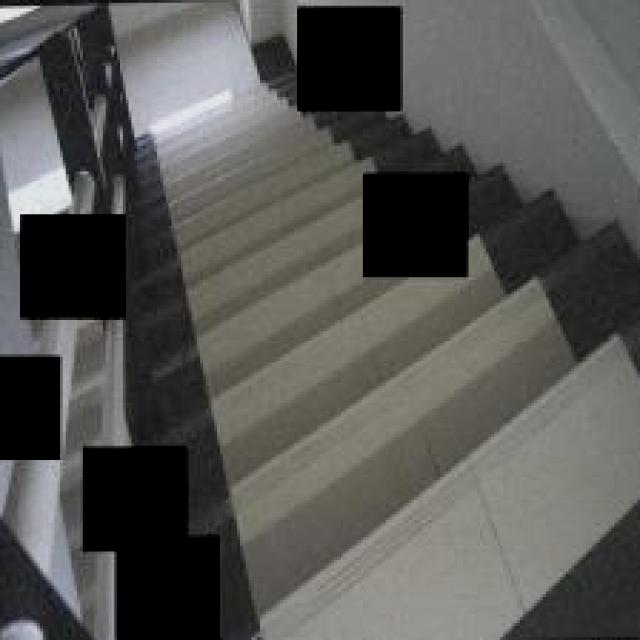downstair: (147, 173, 355, 418)
